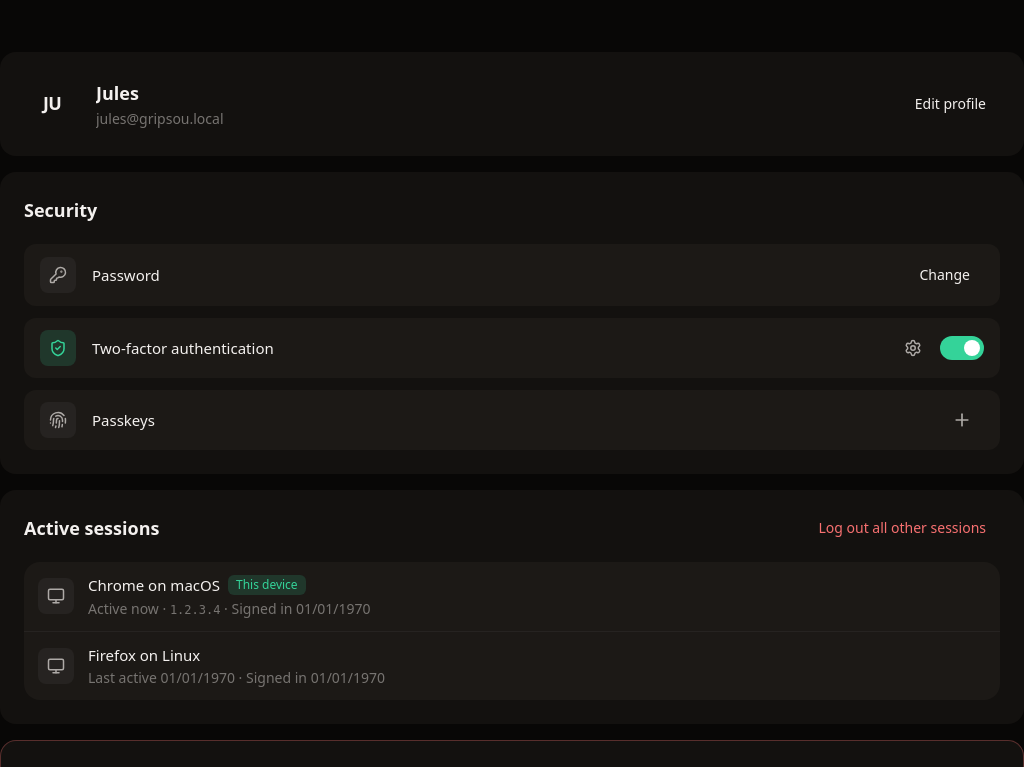
Test: SettingsAccount two-factor row › opens the manage window from the gear
Click the button named "Manage" at (913, 348), box x1=898 y1=333 x2=928 y2=363
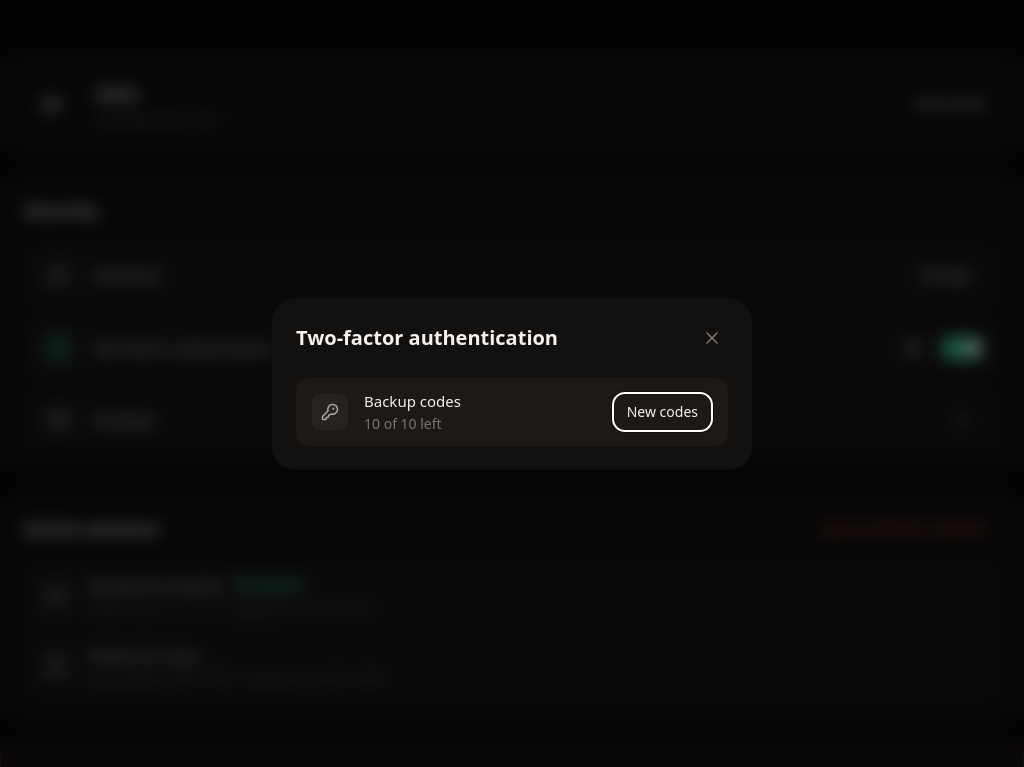
Expected: the dialog "Two-factor authentication" is shown, x1=272 y1=298 x2=752 y2=470
Expected: the text "10 of 10 left" is shown, x1=364 y1=414 x2=442 y2=433
